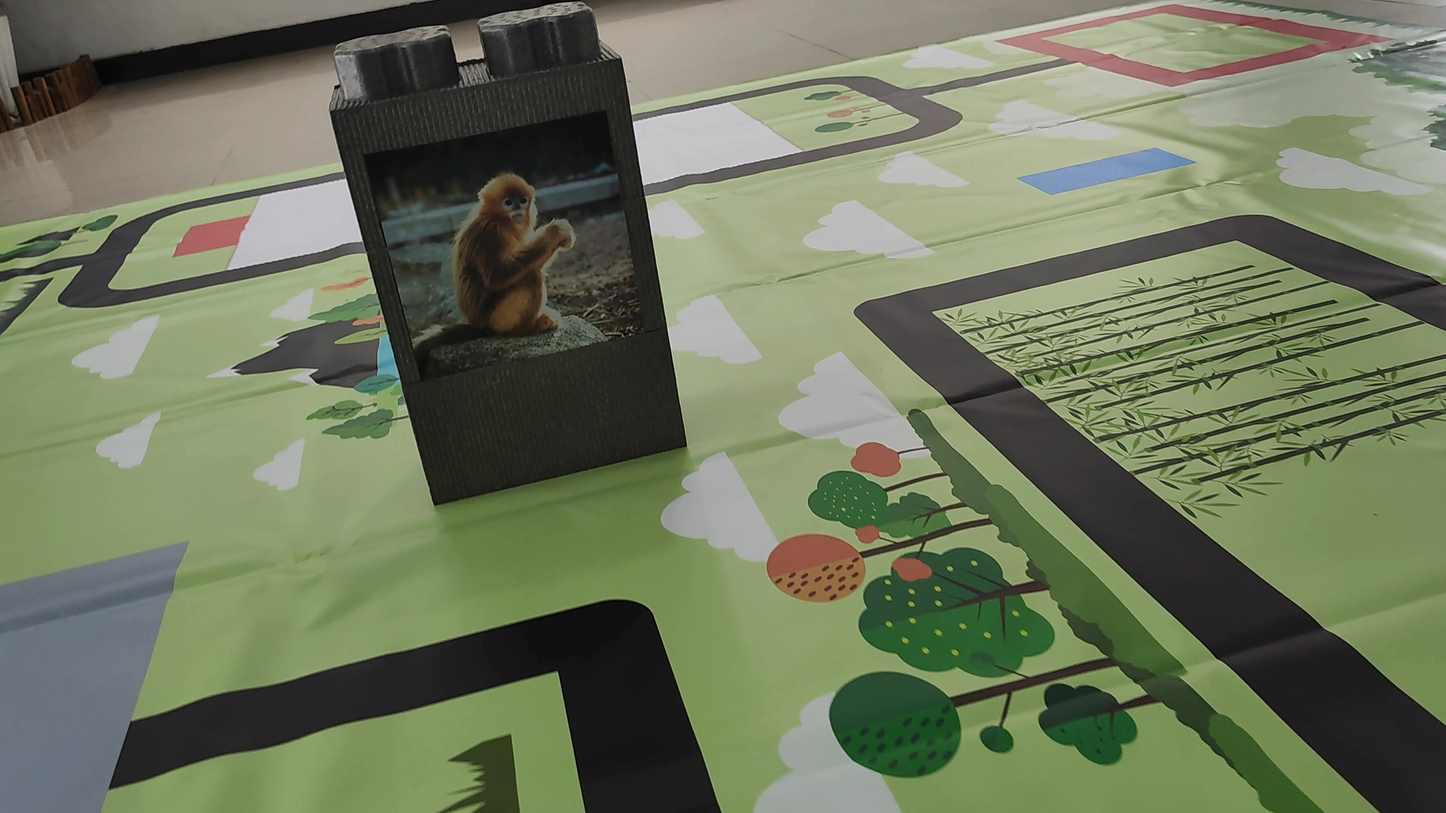monkey: (417, 162, 580, 380)
